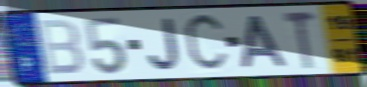5: (85, 15, 130, 76)
A: (239, 14, 289, 70)
B: (36, 18, 86, 77)
C: (182, 10, 231, 76)
J: (146, 16, 182, 73)
T: (280, 10, 319, 71)
